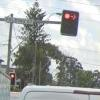traffic lights: (61, 9, 79, 39)
